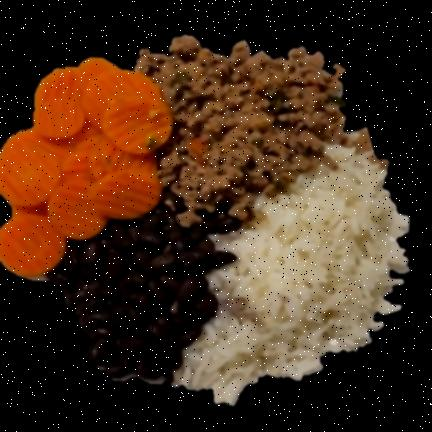beans: (51, 202, 240, 382)
carrot: (0, 57, 173, 277)
meat: (136, 36, 345, 226)
rice: (174, 133, 409, 405)
